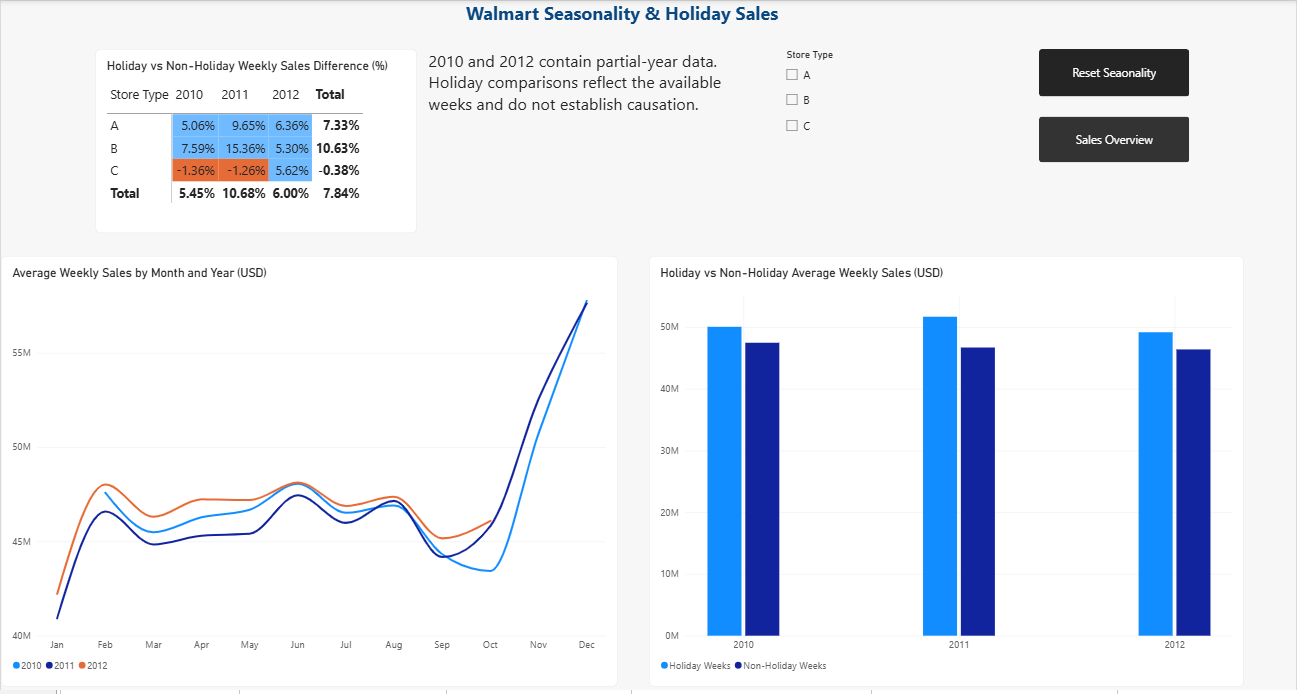

This screenshot's page, from the dashboard's own definition file:
{"tool":"powerbi","page":{"name":"Seasonality & Holidays","canvas":[1920,1080],"ordinal":5},"visuals":[{"type":"lineChart","title":"Average Weekly Sales by Month and Year (USD)","fields":{"Category":["Date Table.Month"],"Series":["Date Table.Year"],"Y":["Sales.Average Weekly Sales"]},"box":[0,378.4,913.5,637.8],"z":0},{"type":"clusteredColumnChart","title":"Holiday vs Non-Holiday Average Weekly Sales (USD)","fields":{"Category":["Date Table.Year"],"Y":["Sales.Average Holiday Weekly Sales","Sales.Average Non-Holiday Weekly Sales"]},"box":[959.5,378.4,881.1,637.8],"z":1000},{"type":"slicer","fields":{"Values":["Stores.Store Type"]},"box":[1156,70,244,164],"z":2000},{"type":"pivotTable","title":"Holiday vs Non-Holiday Weekly Sales Difference (%)","fields":{"Columns":["Date Table.Year"],"Rows":["Stores.Store Type"],"Values":["Sales.Holiday Weekly Sales Difference %"]},"box":[140,70,475.7,273],"z":3000},{"type":"textbox","box":[0,0,1840,56],"z":4000},{"type":"actionButton","box":[1538,70.3,222.7,70.3],"z":5000},{"type":"actionButton","box":[1538,171.1,222.7,68],"z":6000},{"type":"textbox","box":[633,70.3,466.6,117.2],"z":7000}]}

Visuals, with their boxes on the page's 1920x1080 design canvas (x1, y1, x2, y2). These are canvas units, not pixel positions in the 1297x694 screenshot, which may show the page scaled, cropped or inside an application window:
"Average Weekly Sales by Month and Year (USD)" lineChart: (left=0, top=378, right=914, bottom=1016)
"Holiday vs Non-Holiday Average Weekly Sales (USD)" clusteredColumnChart: (left=960, top=378, right=1841, bottom=1016)
slicer - Stores.Store Type: (left=1156, top=70, right=1400, bottom=234)
"Holiday vs Non-Holiday Weekly Sales Difference (%)" pivotTable: (left=140, top=70, right=616, bottom=343)
textbox: (left=0, top=0, right=1840, bottom=56)
actionButton: (left=1538, top=70, right=1761, bottom=141)
actionButton: (left=1538, top=171, right=1761, bottom=239)
textbox: (left=633, top=70, right=1100, bottom=188)
